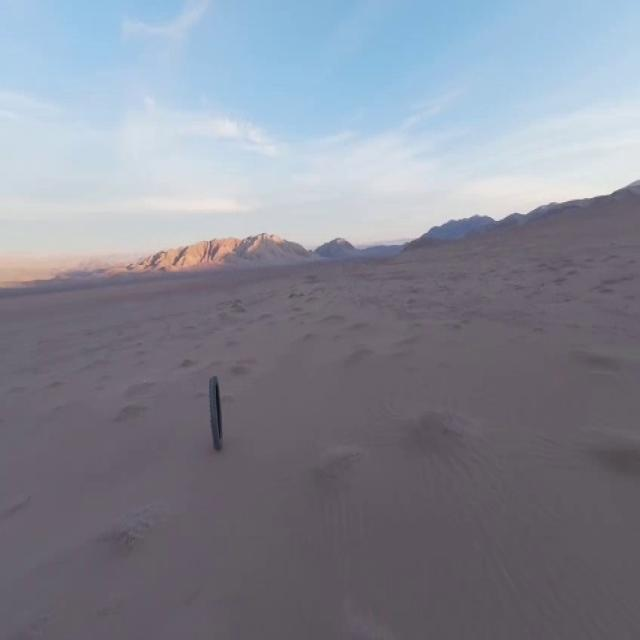Tire: (210, 376, 222, 450)
